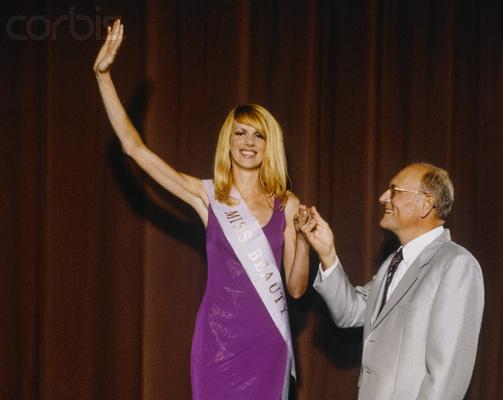person: (92, 20, 318, 400)
